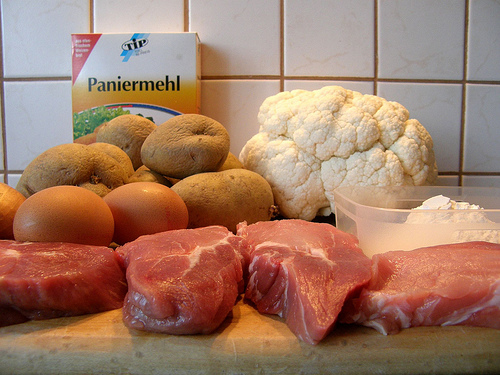cauliflower: (236, 82, 440, 225)
